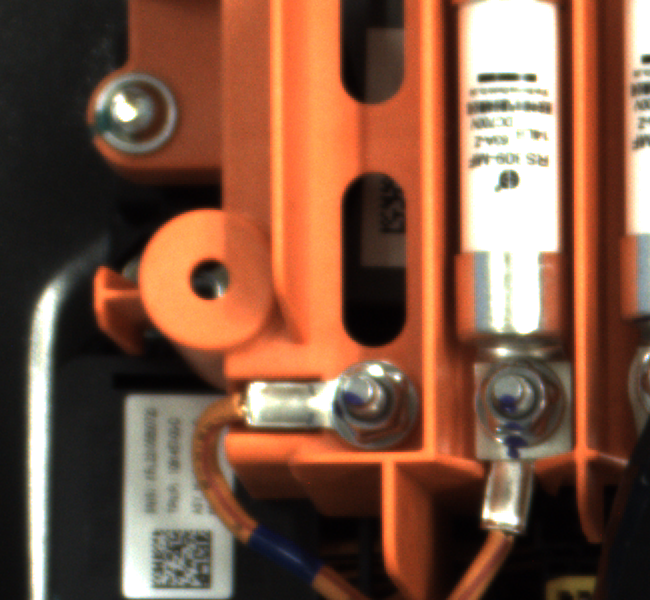screw_m: (86, 67, 197, 158)
screw_s: (470, 357, 580, 463), (314, 354, 415, 442)
